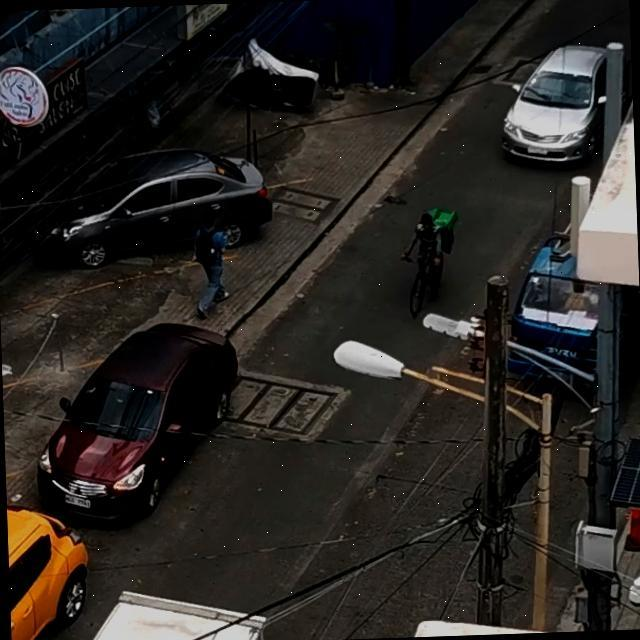Bike: (385, 188, 484, 334)
